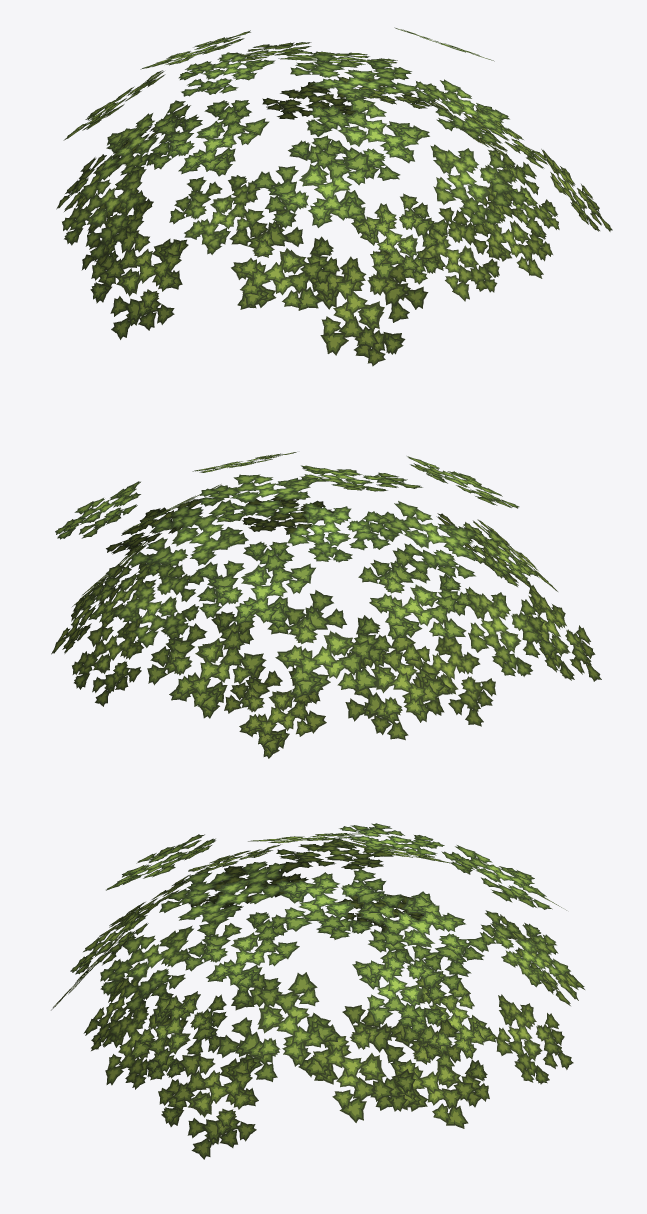
The model's file is clover_b.glb.
3 views of the same model, one above another, from view 1: azimuth 30°, elevation 25°; view 2: azimuth 150°, elevation 25°; view 3: azimuth 270°, elevation 25° (orthographic). The views are drawn at different scales.
Visible parts, largest first — view 1: clover_b; view 2: clover_b; view 3: clover_b.
Part boxes in pixels (bbox=[...]): clover_b: bbox=[56, 27, 612, 366]; clover_b: bbox=[51, 452, 601, 758]; clover_b: bbox=[51, 823, 584, 1159].
Size of the model in its own units: 2.55 by 1.03 by 2.51.
Materials: 1 (1 with a texture image).
